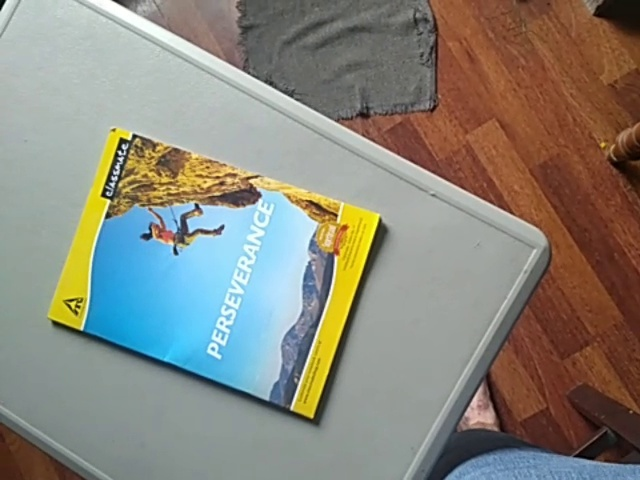Book: (36, 118, 399, 441)
